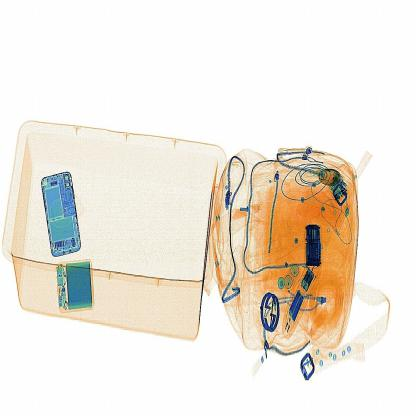scissors: (300, 219, 328, 275)
